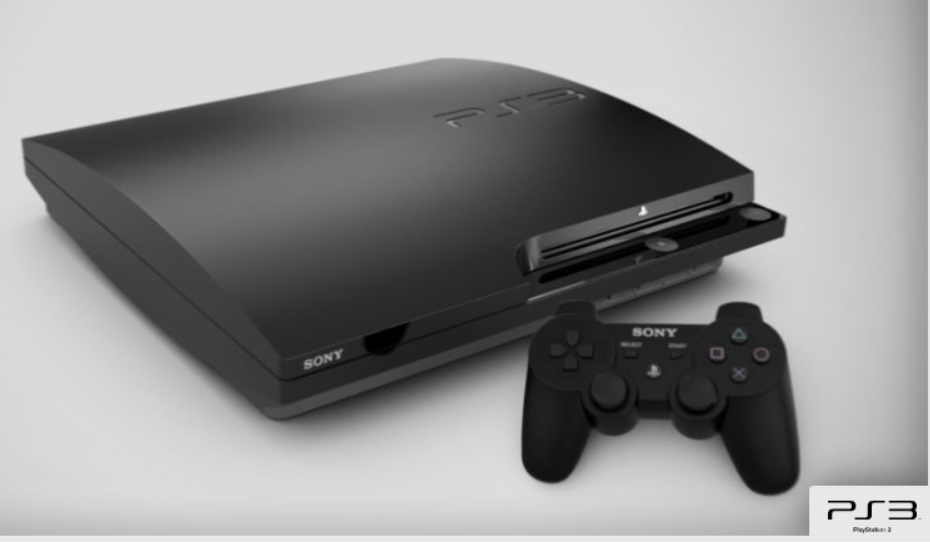gamingconsole: (526, 301, 801, 494)
